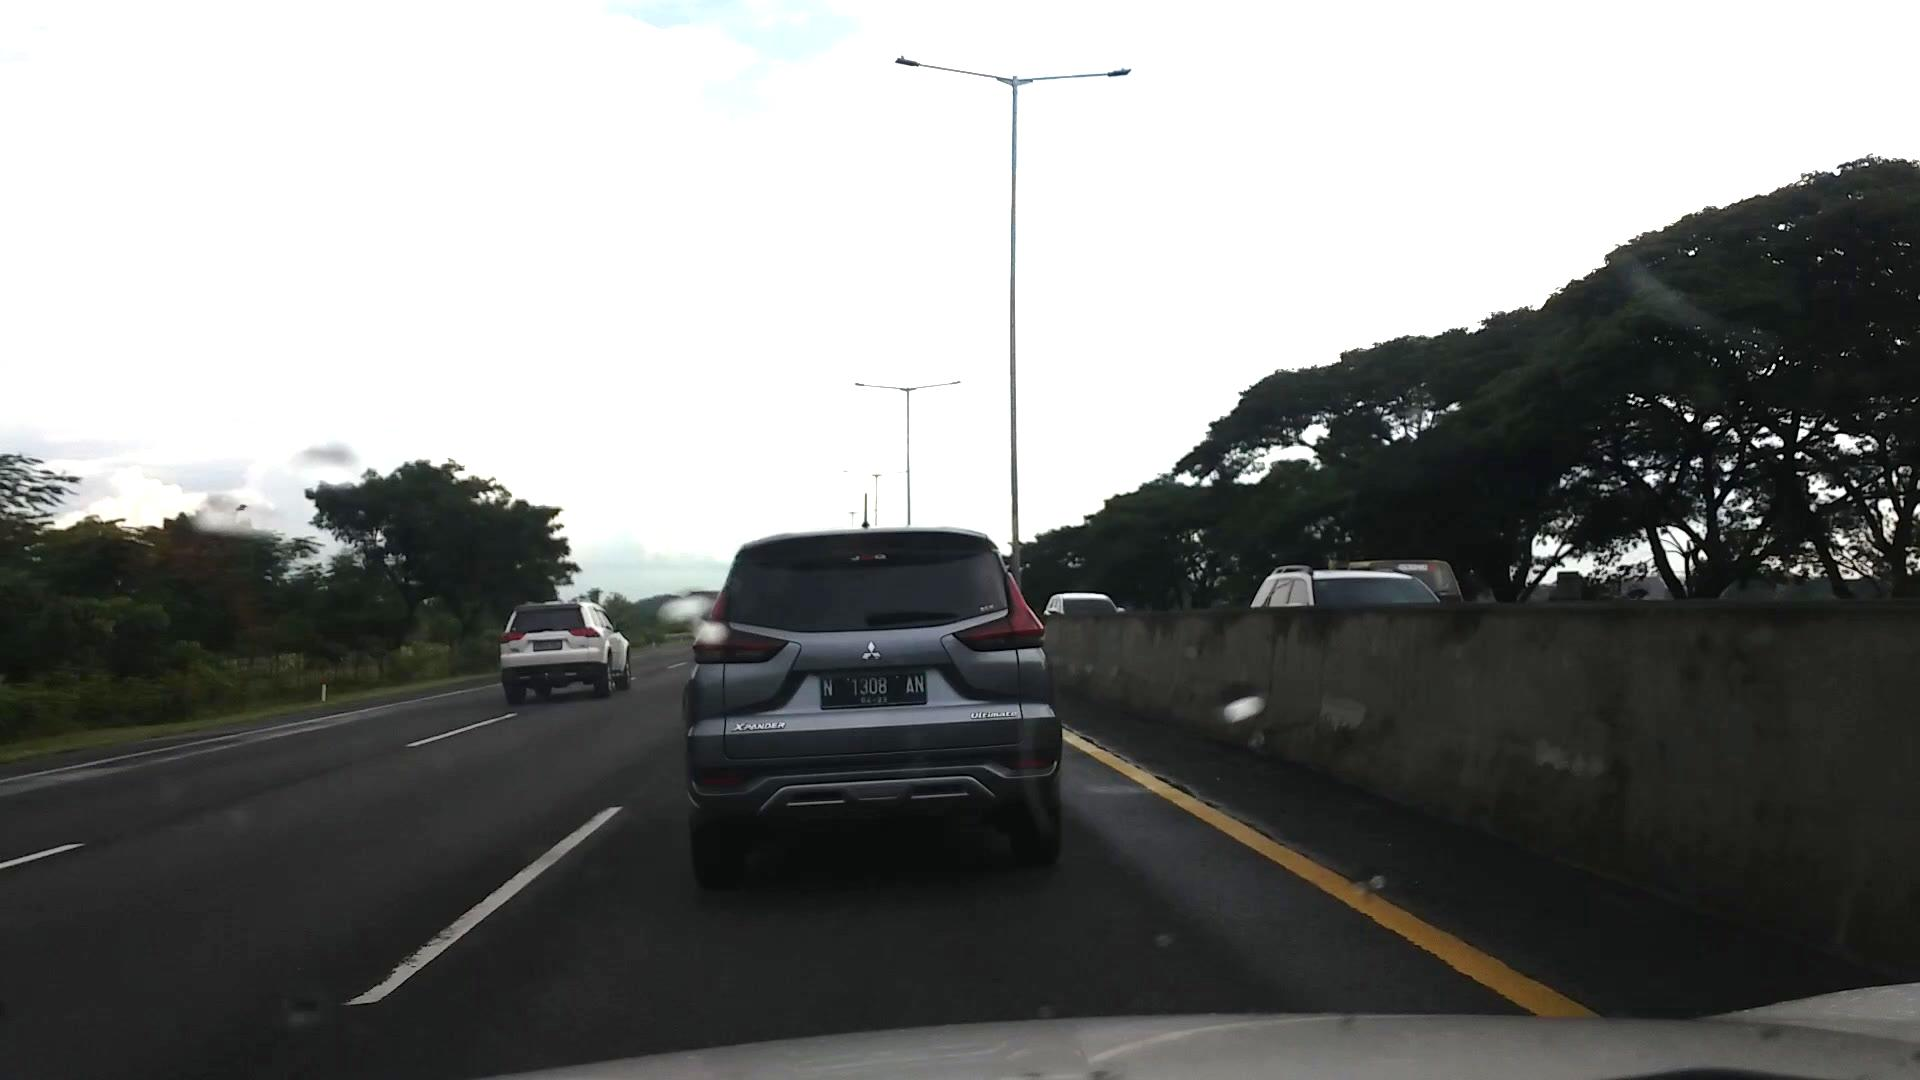plate_positive: (820, 673, 926, 708)
